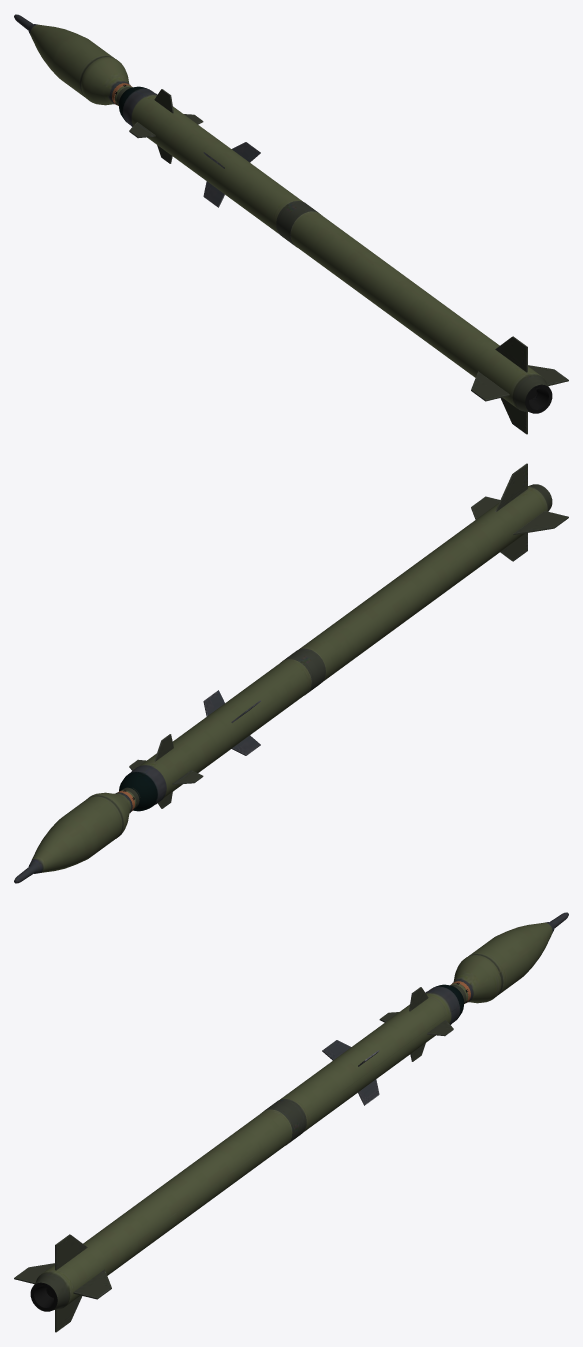
File: projectiles.glb
The picture shows the model from 3 angles, top to bottom: view 1: azimuth 30°, elevation 25°; view 2: azimuth 150°, elevation 25°; view 3: azimuth 330°, elevation 25°; orthographic projection.
Visible parts, largest first — view 1: proj_aa, proj_rocket, fins_aa, fins_rocket; view 2: proj_aa, proj_rocket, fins_aa, fins_rocket; view 3: proj_aa, proj_rocket, fins_aa, fins_rocket.
Part boxes in pixels (left/top/right/bottom): proj_aa: left=118, top=86, right=552, bottom=413; proj_rocket: left=14, top=14, right=131, bottom=105; fins_aa: left=129, top=89, right=568, bottom=434; fins_rocket: left=203, top=142, right=260, bottom=207; proj_aa: left=119, top=484, right=552, bottom=811; proj_rocket: left=14, top=787, right=139, bottom=883; fins_aa: left=129, top=463, right=568, bottom=808; fins_rocket: left=203, top=690, right=260, bottom=755; proj_aa: left=30, top=984, right=464, bottom=1311; proj_rocket: left=451, top=912, right=568, bottom=1003; fins_aa: left=14, top=987, right=453, bottom=1332; fins_rocket: left=322, top=1040, right=379, bottom=1105.
Size of the model in its own units: 0.166 by 0.166 by 1.81.
1 material, 1 textured.
